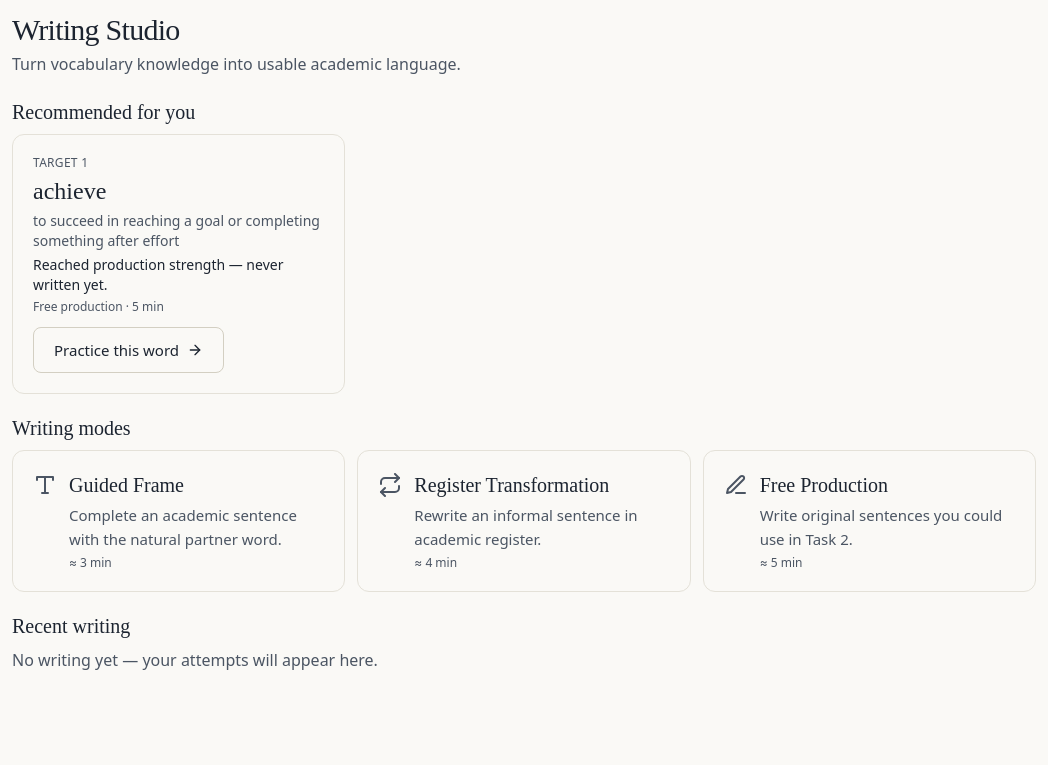
Test case: Writing Studio redesigned flow › landing recommends real targets and opens the workspace
Expected: the heading "Recommended for you" is shown, [12,101,195,123]
Step 1. Click the button "Practice this word" → (129, 350), box [33,327,224,373]
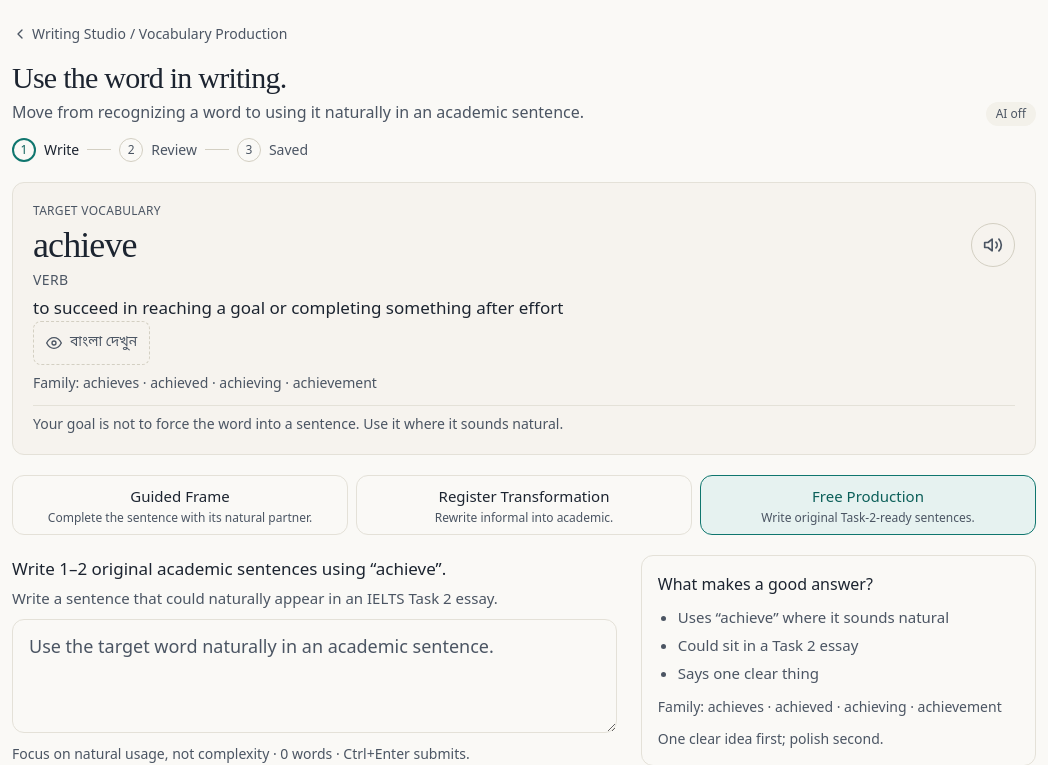
Now the text "Target vocabulary" is shown, box [33,202,161,219]
Now the element named "Writing task type" is shown, box [12,475,1036,535]
Now the text box named "Your sentence" is shown, box [12,619,617,733]
